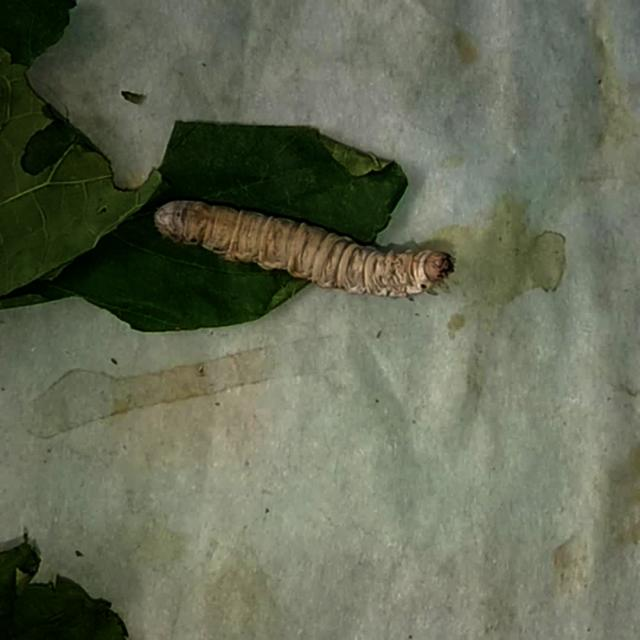Grasserie: (148, 162, 488, 326)
